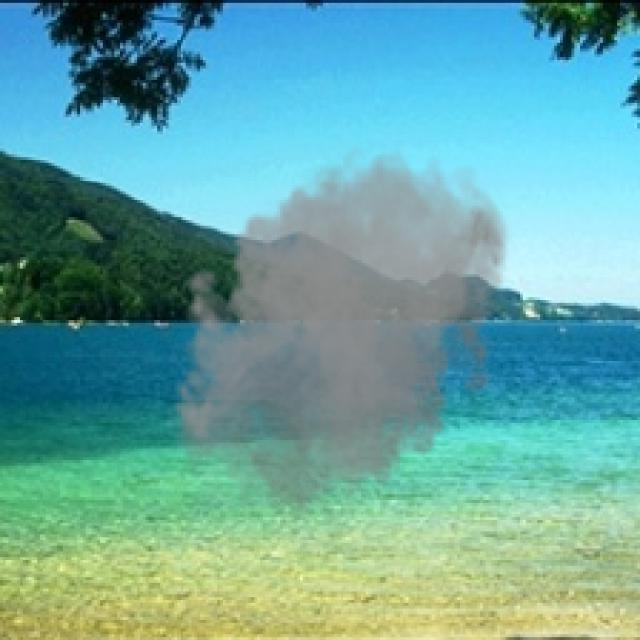smoke: (163, 140, 514, 537)
